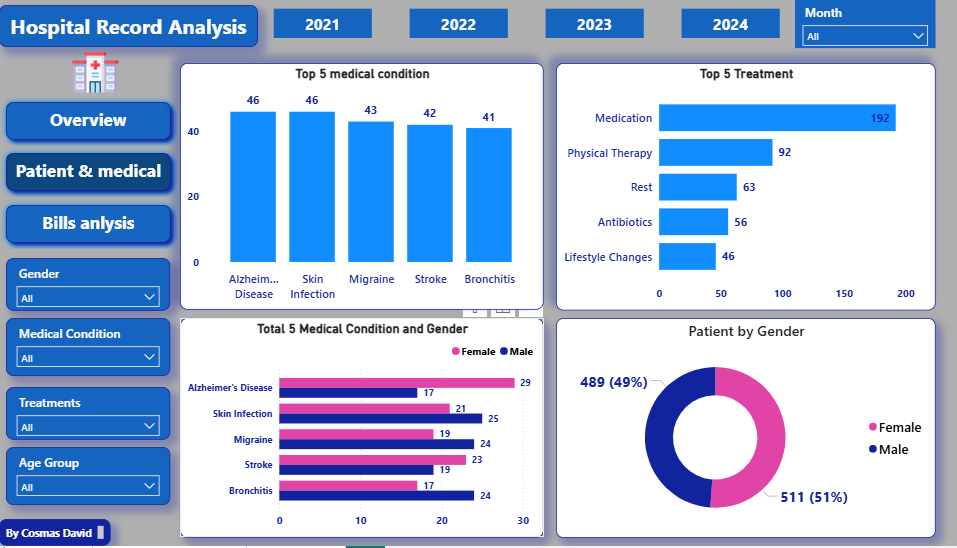

The page's visual inventory and layout, read from the dashboard file:
{"tool":"powerbi","page":{"name":"Patients and medical","canvas":[1280,720],"ordinal":1},"visuals":[{"type":"group","id":"g1","title":"Group 2","box":[0,5.5,1226.3,63.3],"z":0},{"type":"image","box":[61.9,68.8,129.4,60.6],"z":1000},{"type":"textbox","box":[0,12.4,338.6,55.1],"z":2000,"group":"g1"},{"type":"actionButton","box":[0,129.4,234,67.4],"z":2000},{"type":"advancedSlicerVisual","fields":{"Values":["Sheet1.Year"]},"box":[355.1,12.4,673,48.2],"z":3000,"group":"g1"},{"type":"actionButton","box":[0,196.8,234,67.4],"z":3000},{"type":"slicer","fields":{"Values":["Sheet1.Month Name"]},"box":[1041.9,5.5,184.4,63.3],"z":4000,"group":"g1"},{"type":"actionButton","box":[0,264.3,234,67.4],"z":4000},{"type":"slicer","fields":{"Values":["Sheet1.Gender"]},"box":[9.6,342.7,214.7,68.8],"z":5000},{"type":"slicer","fields":{"Values":["Sheet1.Medical Condition"]},"box":[9.6,421.2,214.7,75.7],"z":6000},{"type":"slicer","fields":{"Values":["Sheet1.Treatments"]},"box":[9.6,512,214.7,68.8],"z":7000},{"type":"slicer","fields":{"Values":["Sheet1.Age Group"]},"box":[9.6,590.5,214.7,75.7],"z":8000},{"type":"textbox","box":[0,684.7,146,35.3],"z":9000},{"type":"clusteredBarChart","title":"Total 5 Medical Condition and Gender","fields":{"Category":["Sheet1.Medical Condition"],"Series":["Sheet1.Gender"],"Y":["Sheet1.Total patient"]},"box":[236.7,421.2,476.2,287.7],"z":10000},{"type":"donutChart","title":"Patient by Gender","fields":{"Y":["Sheet1.Total patient"],"Category":["Sheet1.Gender"]},"box":[729.5,421.2,496.9,287.7],"z":11000},{"type":"columnChart","title":"Top 5 medical condition","fields":{"Category":["Sheet1.Medical Condition"],"Y":["Sheet1.Total patient"]},"box":[236.7,88.1,476.2,323.4],"z":12000},{"type":"clusteredBarChart","title":"Top 5 Treatment","fields":{"Category":["Sheet1.Treatments"],"Y":["Sheet1.Total patient"]},"box":[729,87.3,497.2,324.2],"z":13000}]}

Visuals, with their boxes in screenshot pixels (x1, y1, x2, y2), scaled from the page's 1280x720 canvas onto the 957x548 screenshot:
"Group 2" group: 0 4 917 52
image: 46 52 143 98
textbox: 0 9 253 51
actionButton: 0 98 175 150
advancedSlicerVisual - Sheet1.Year: 265 9 769 46
actionButton: 0 150 175 201
slicer - Sheet1.Month Name: 779 4 917 52
actionButton: 0 201 175 252
slicer - Sheet1.Gender: 7 261 168 313
slicer - Sheet1.Medical Condition: 7 321 168 378
slicer - Sheet1.Treatments: 7 390 168 442
slicer - Sheet1.Age Group: 7 449 168 507
textbox: 0 521 109 547
"Total 5 Medical Condition and Gender" clusteredBarChart: 177 321 533 540
"Patient by Gender" donutChart: 545 321 917 540
"Top 5 medical condition" columnChart: 177 67 533 313
"Top 5 Treatment" clusteredBarChart: 545 66 917 313
